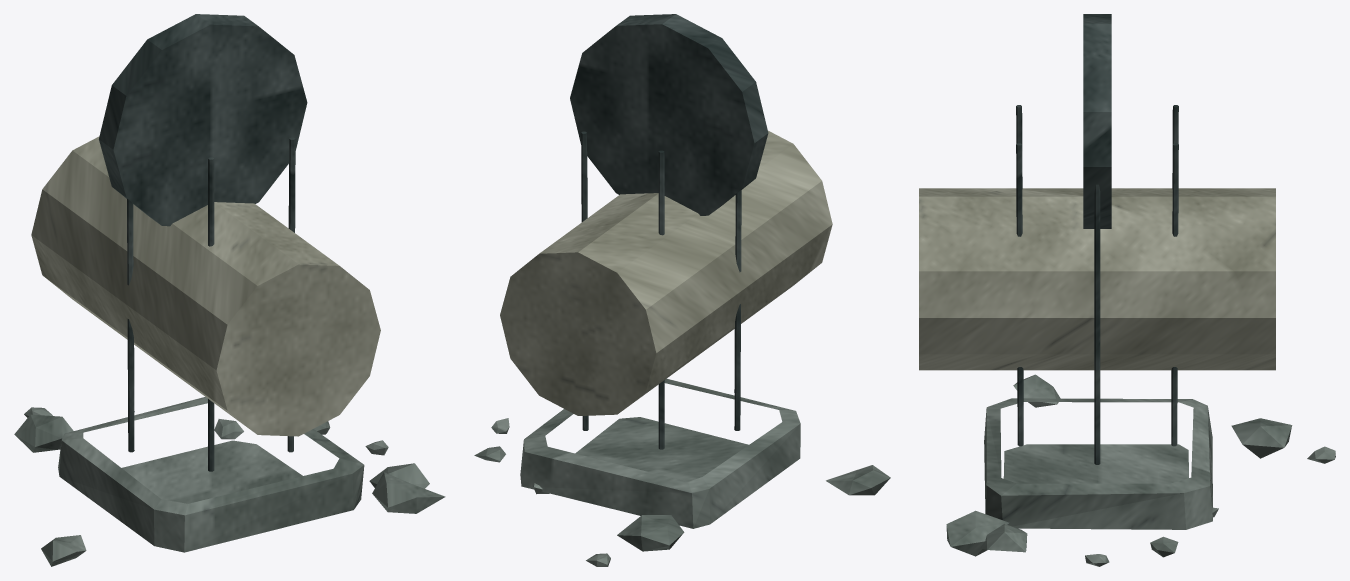
The model's file is 0251_broken_column_01.glb.
The picture shows the model from 3 angles, left to right: view 1: azimuth 30°, elevation 25°; view 2: azimuth 150°, elevation 25°; view 3: azimuth 270°, elevation 25°; orthographic projection. The views are drawn at different scales.
Visible parts, largest first — view 1: stone_light, stone_dark, stone; view 2: stone_light, stone_dark, stone; view 3: stone_light, stone, stone_dark.
Boxes of the visible parts, <box> form: stone_light: <box>31,136,380,436</box>; stone_dark: <box>99,14,307,471</box>; stone: <box>14,397,445,566</box>; stone_light: <box>500,130,832,415</box>; stone_dark: <box>570,14,768,449</box>; stone: <box>474,378,890,566</box>; stone_light: <box>919,188,1275,370</box>; stone: <box>946,374,1335,566</box>; stone_dark: <box>1016,14,1178,464</box>.
Size of the model in its own units: 2.22 by 2.71 by 2.22.
Materials: 3 (3 with a texture image).
